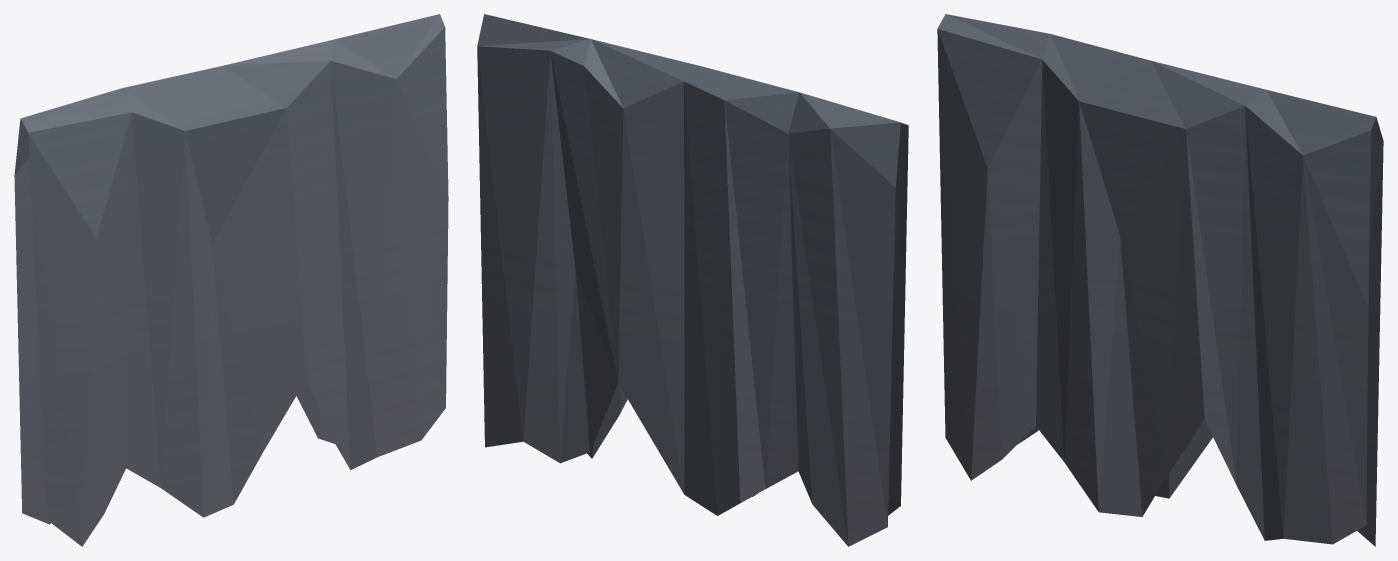
File: Cloth_2B.fbx
The picture shows the model from 3 angles, left to right: view 1: azimuth 30°, elevation 25°; view 2: azimuth 150°, elevation 25°; view 3: azimuth 330°, elevation 25°; orthographic projection. The views are drawn at different scales.
Parts seen in each view (by area): view 1: polySurface10645; view 2: polySurface10645; view 3: polySurface10645.
Boxes of the visible parts, <box> form: polySurface10645: <box>14,14,448,546</box>; polySurface10645: <box>477,14,908,546</box>; polySurface10645: <box>937,14,1383,546</box>.
Bounding box in the file's own units: 236 × 233 × 31.37.
